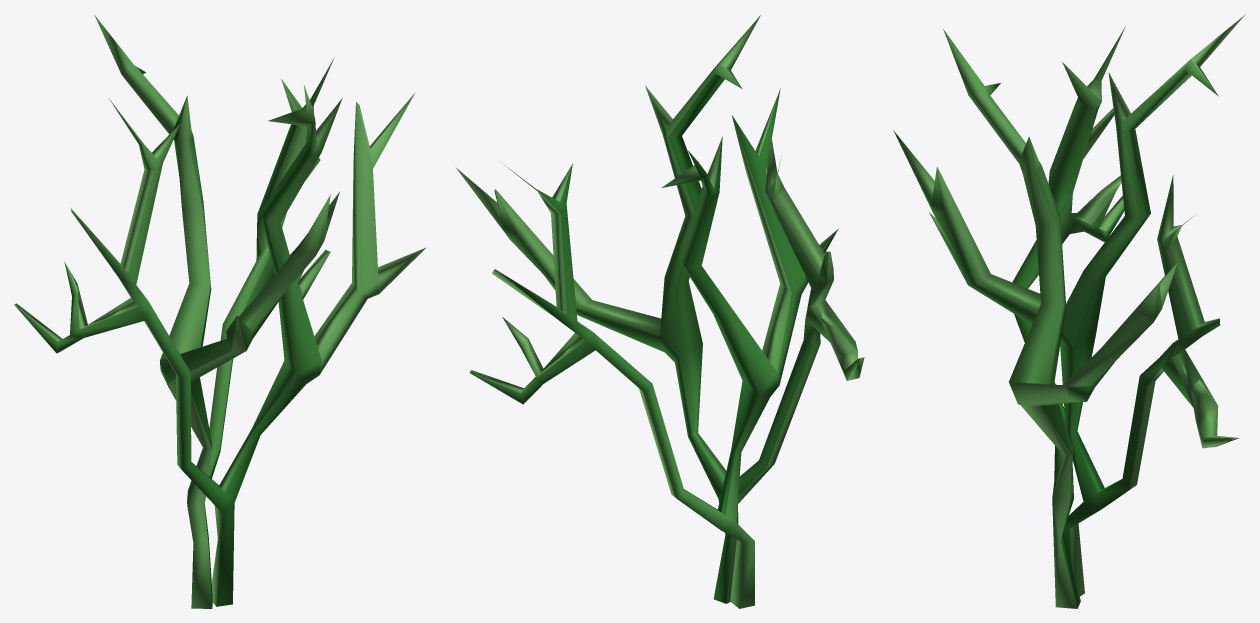
The model's file is seaGrassBigGreen.fbx.
3 renders of one model, left to right at view 1: azimuth 30°, elevation 25°; view 2: azimuth 150°, elevation 25°; view 3: azimuth 270°, elevation 25°, orthographic. The views are drawn at different scales.
Parts seen in each view (by area): view 1: seaGrassBigGreenObject; view 2: seaGrassBigGreenObject; view 3: seaGrassBigGreenObject.
Boxes of the visible parts, x1=… form: seaGrassBigGreenObject: x1=14, y1=15, x2=426, y2=608; seaGrassBigGreenObject: x1=456, y1=15, x2=864, y2=608; seaGrassBigGreenObject: x1=893, y1=14, x2=1245, y2=608.
Size of the model in its own units: 0.8823 by 1.14 by 0.6177.
1 material, 1 textured.
